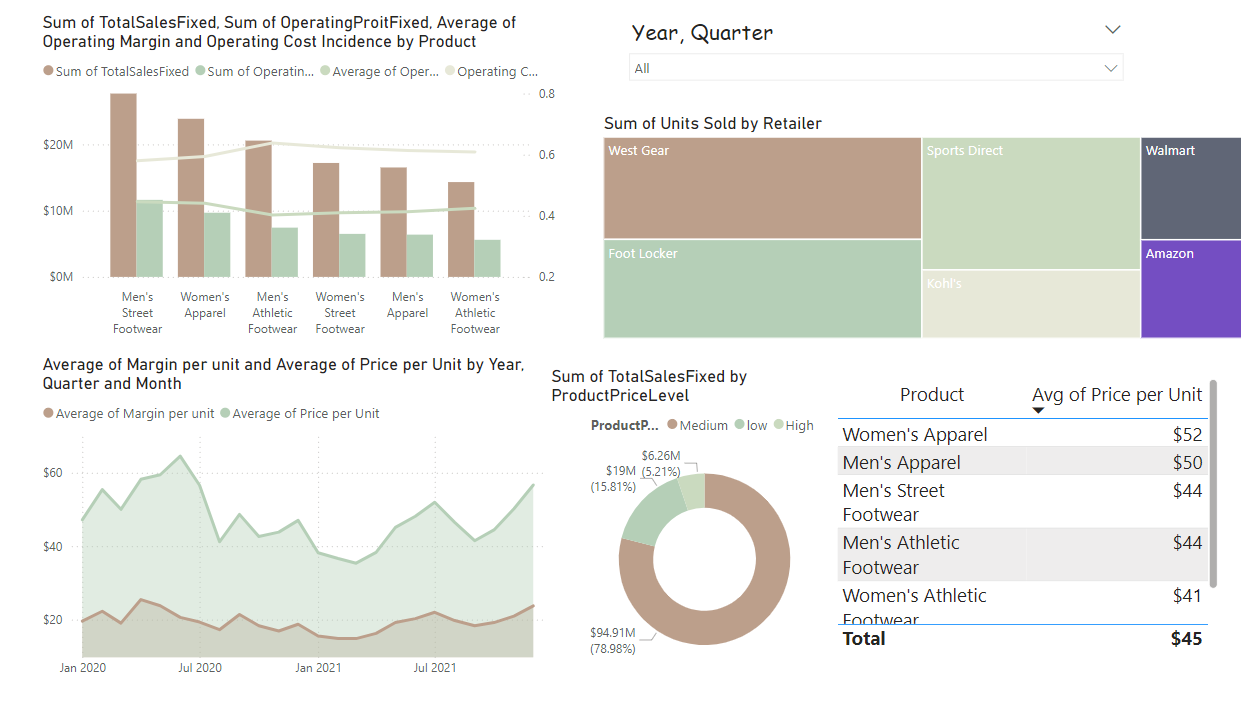

What the dashboard file says about the page in this screenshot:
{"tool":"powerbi","page":{"name":"Product","canvas":[1280,720],"ordinal":3},"visuals":[{"type":"lineClusteredColumnComboChart","fields":{"Category":["Data Sales Adidas.Product"],"Y":["Sum(Data Sales Adidas.TotalSalesFixed)","Sum(Data Sales Adidas.OperatingProitFixed)"],"Y2":["Avg(Data Sales Adidas.Operating Margin)","Data Sales Adidas.Operating Cost Incidence"]},"box":[67.2,13.7,522.8,332.1],"z":0},{"type":"slicer","fields":{"Values":["Data Sales Adidas.Invoice Date.Variation.Date Hierarchy.Year","Data Sales Adidas.Invoice Date.Variation.Date Hierarchy.Quarter"]},"box":[648.8,13.8,515,80],"z":1000},{"type":"areaChart","fields":{"Y":["Avg(Data Sales Adidas.Margin per unit)","Avg(Data Sales Adidas.Price per Unit)"],"Category":["Data Sales Adidas.Invoice Date.Variation.Date Hierarchy.Year","Data Sales Adidas.Invoice Date.Variation.Date Hierarchy.Quarter","Data Sales Adidas.Invoice Date.Variation.Date Hierarchy.Month"]},"box":[67,356,523,332],"z":2000},{"type":"treemap","fields":{"Group":["Data Sales Adidas.Retailer"],"Values":["Sum(Data Sales Adidas.Units Sold)"]},"box":[628.5,115.3,651.8,230.5],"z":3000},{"type":"donutChart","fields":{"Category":["Data Sales Adidas.ProductPriceLevel"],"Y":["Sum(Data Sales Adidas.TotalSalesFixed)"]},"box":[576.3,367.8,317,319.7],"z":4000},{"type":"tableEx","fields":{"Values":["Data Sales Adidas.Product","Avg(Data Sales Adidas.Price per Unit)"]},"box":[861.2,376.2,391.2,282.5],"z":5000}]}

Visuals, with their boxes in screenshot pixels (x1, y1, x2, y2), scaled from the page's 1280x720 canvas onto the 1241x711 screenshot:
lineClusteredColumnComboChart - Data Sales Adidas.Product x Sum(Data Sales Adidas.TotalSalesFixed): region(65, 14, 572, 341)
slicer - Data Sales Adidas.Invoice Date.Variation.Date Hierarchy.Year x Data Sales Adidas.Invoice Date.Variation.Date Hierarchy.Quarter: region(629, 14, 1128, 93)
areaChart - Avg(Data Sales Adidas.Margin per unit) x Avg(Data Sales Adidas.Price per Unit): region(65, 352, 572, 679)
treemap - Data Sales Adidas.Retailer x Sum(Data Sales Adidas.Units Sold): region(609, 114, 1240, 341)
donutChart - Data Sales Adidas.ProductPriceLevel x Sum(Data Sales Adidas.TotalSalesFixed): region(559, 363, 866, 679)
tableEx - Data Sales Adidas.Product x Avg(Data Sales Adidas.Price per Unit): region(835, 371, 1214, 650)
